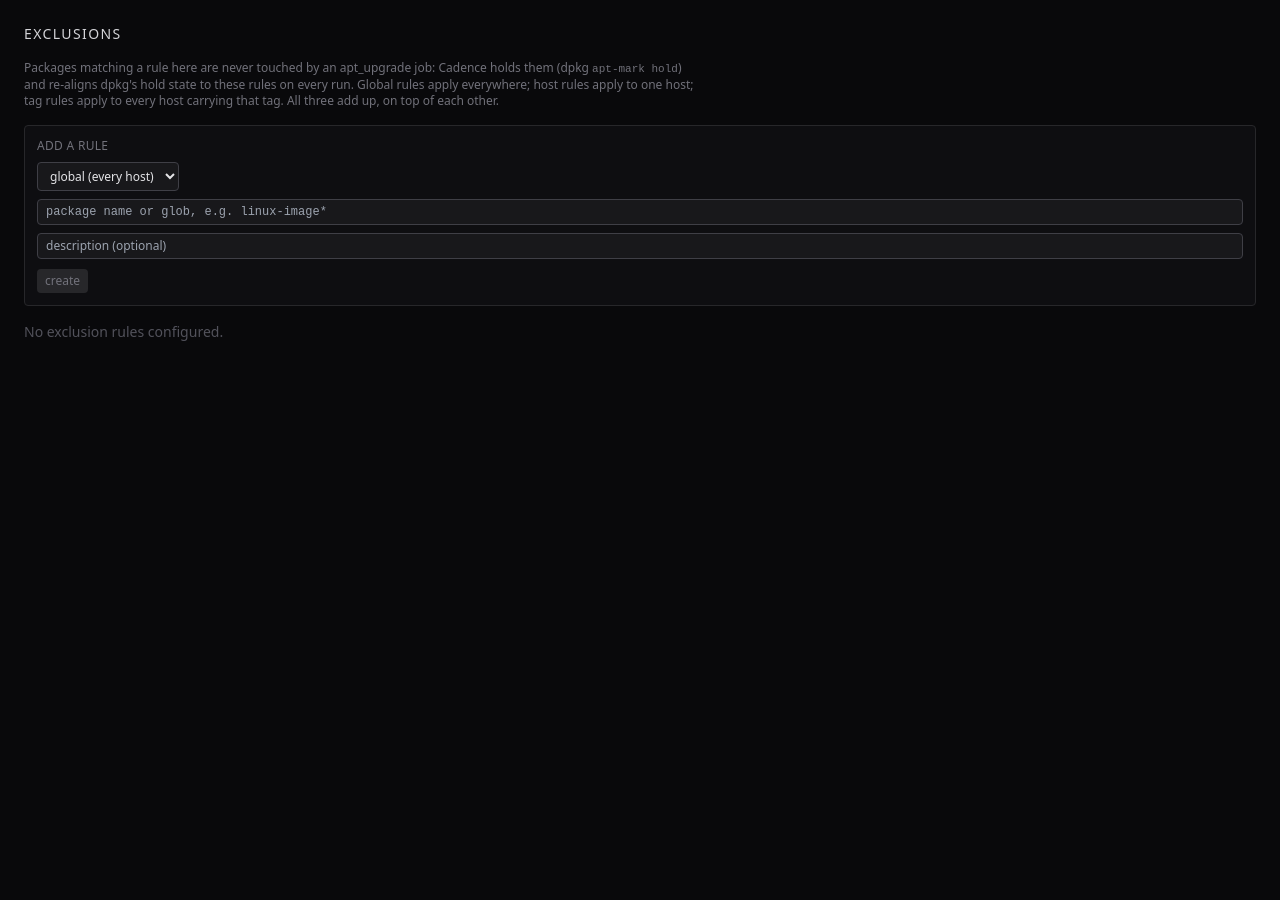
Test case: ExclusionsView › creates a tag-scoped rule
Expected: the text "No exclusion rules configured." is shown, [24, 322, 223, 341]
In the field with placeholder "package name or glob, e.g. linux-image*": (640, 212) [37, 199, 1243, 225], type "nginx*"
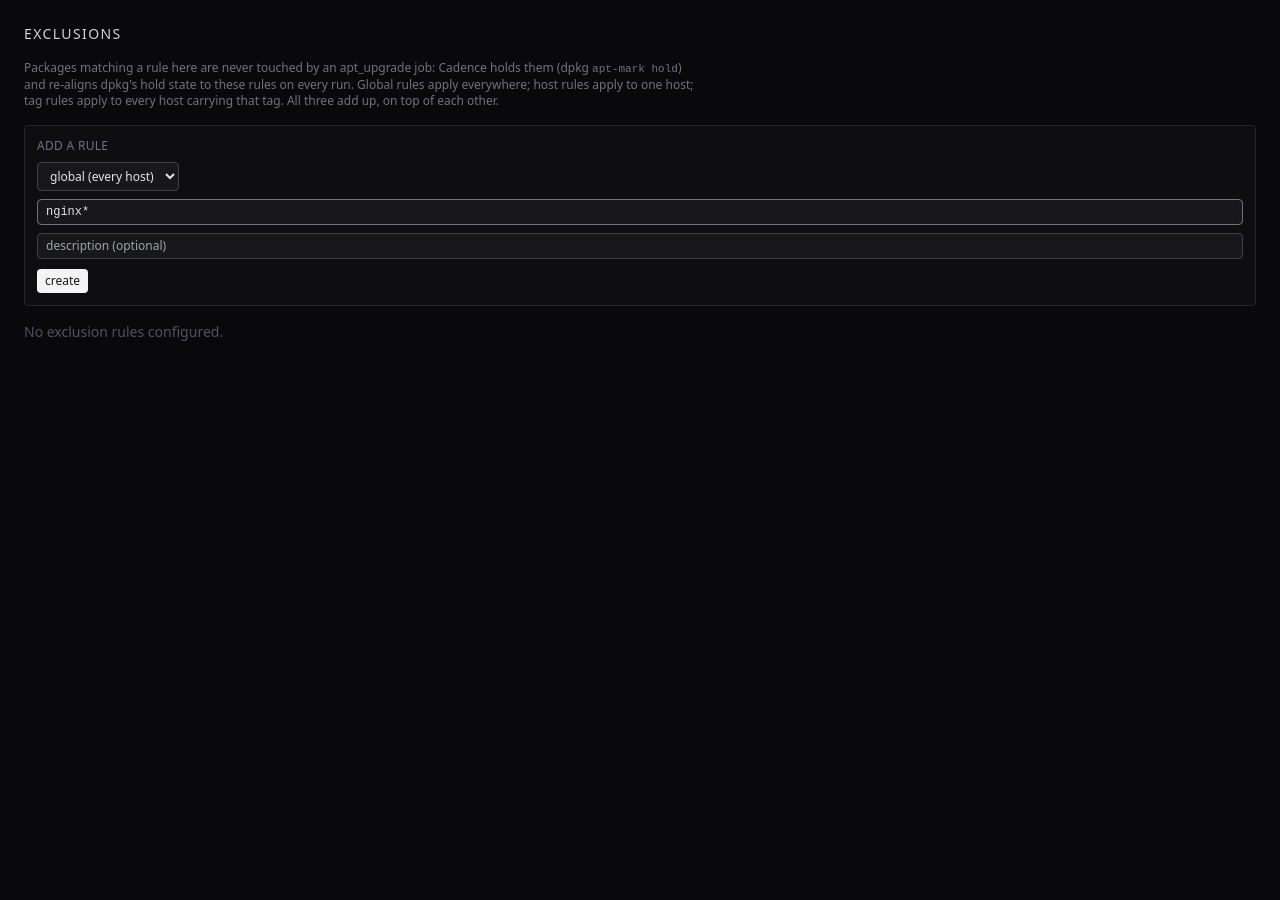
Select "hosts with a tag" in the dropdown named "Scope": (108, 176) [37, 162, 179, 191]
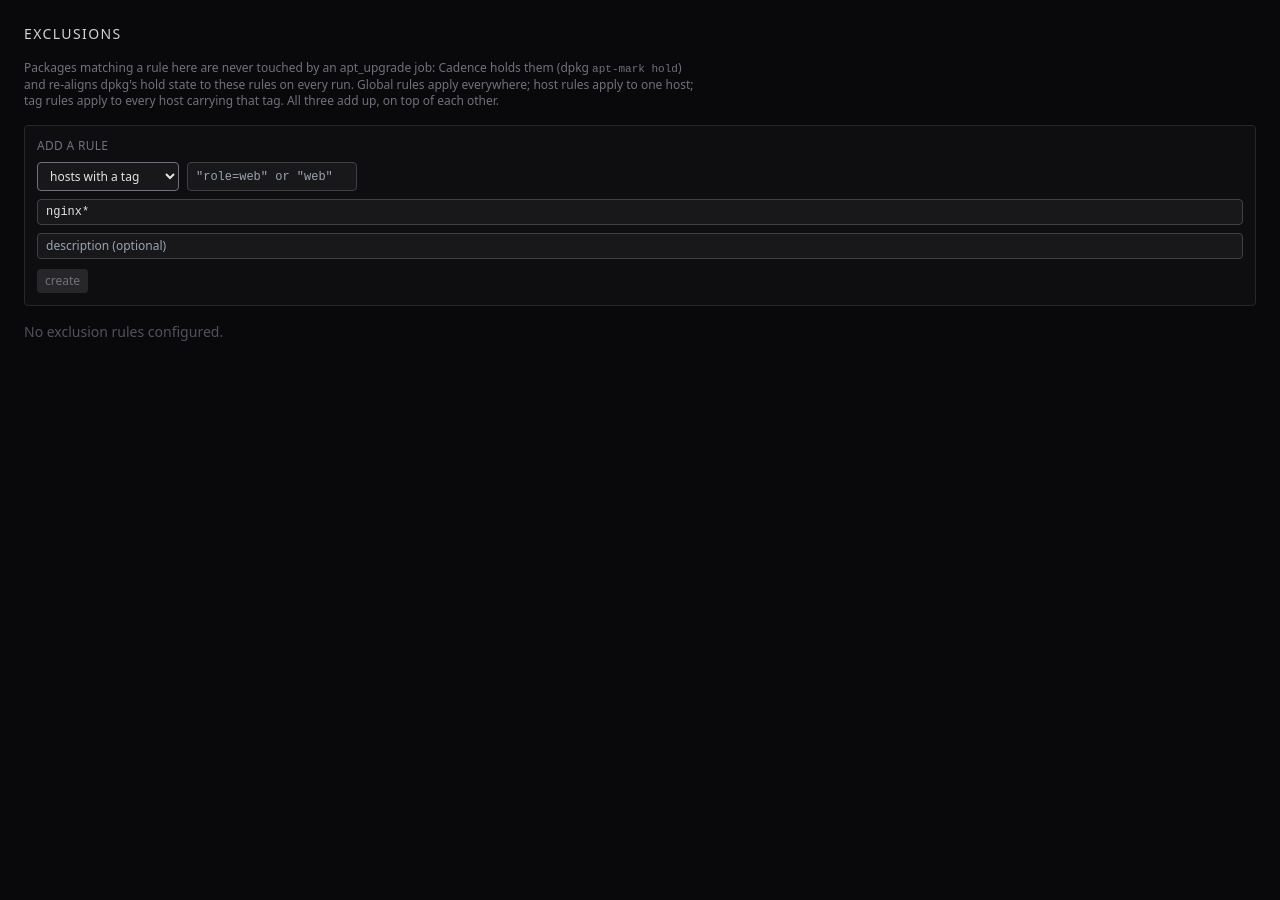
Now the button "create" is disabled, box [37, 269, 88, 293]
In the field named "Tag": (272, 176) [187, 162, 357, 191], type "role=web"
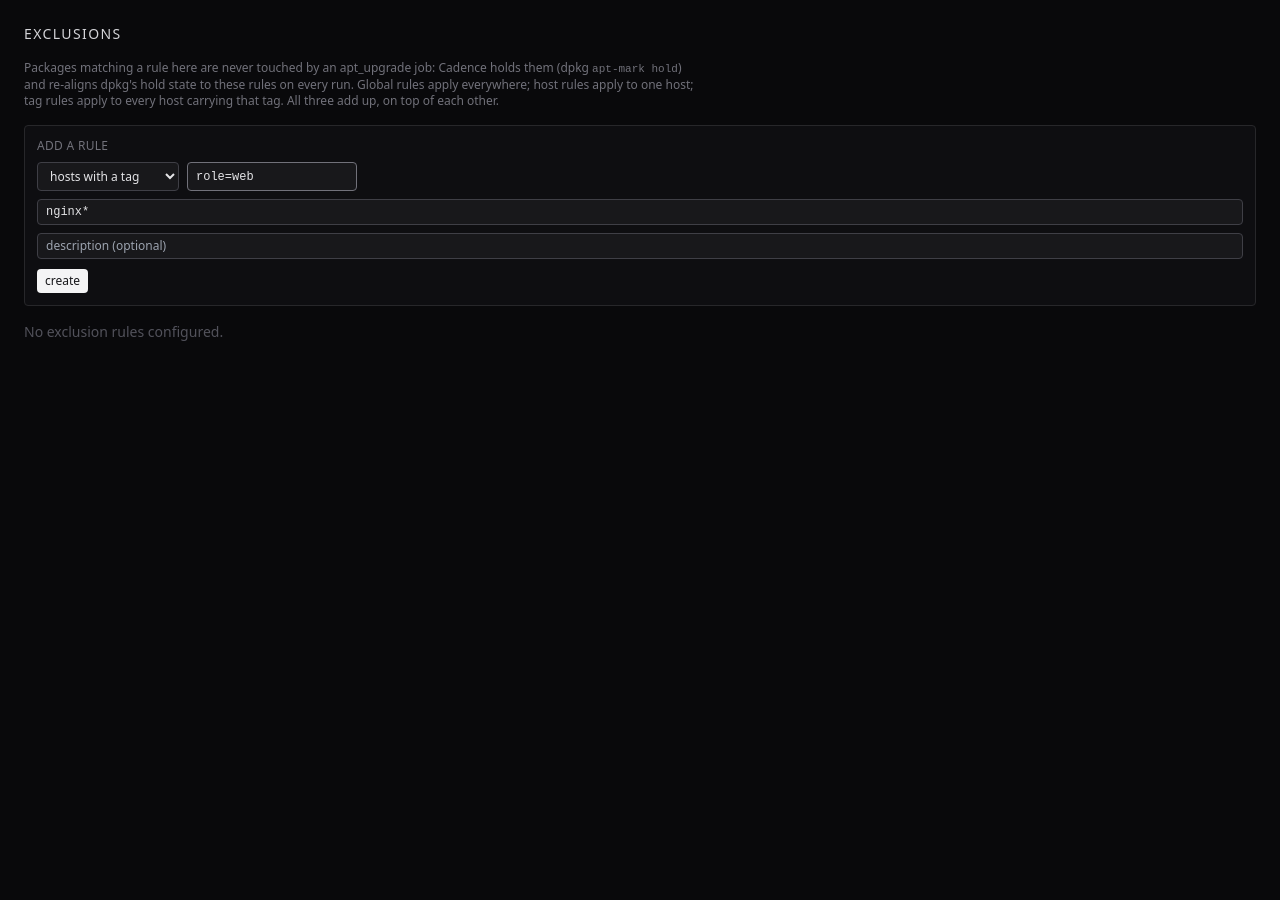
Now the button "create" is enabled
Click the button "create": (63, 281) [37, 269, 88, 293]
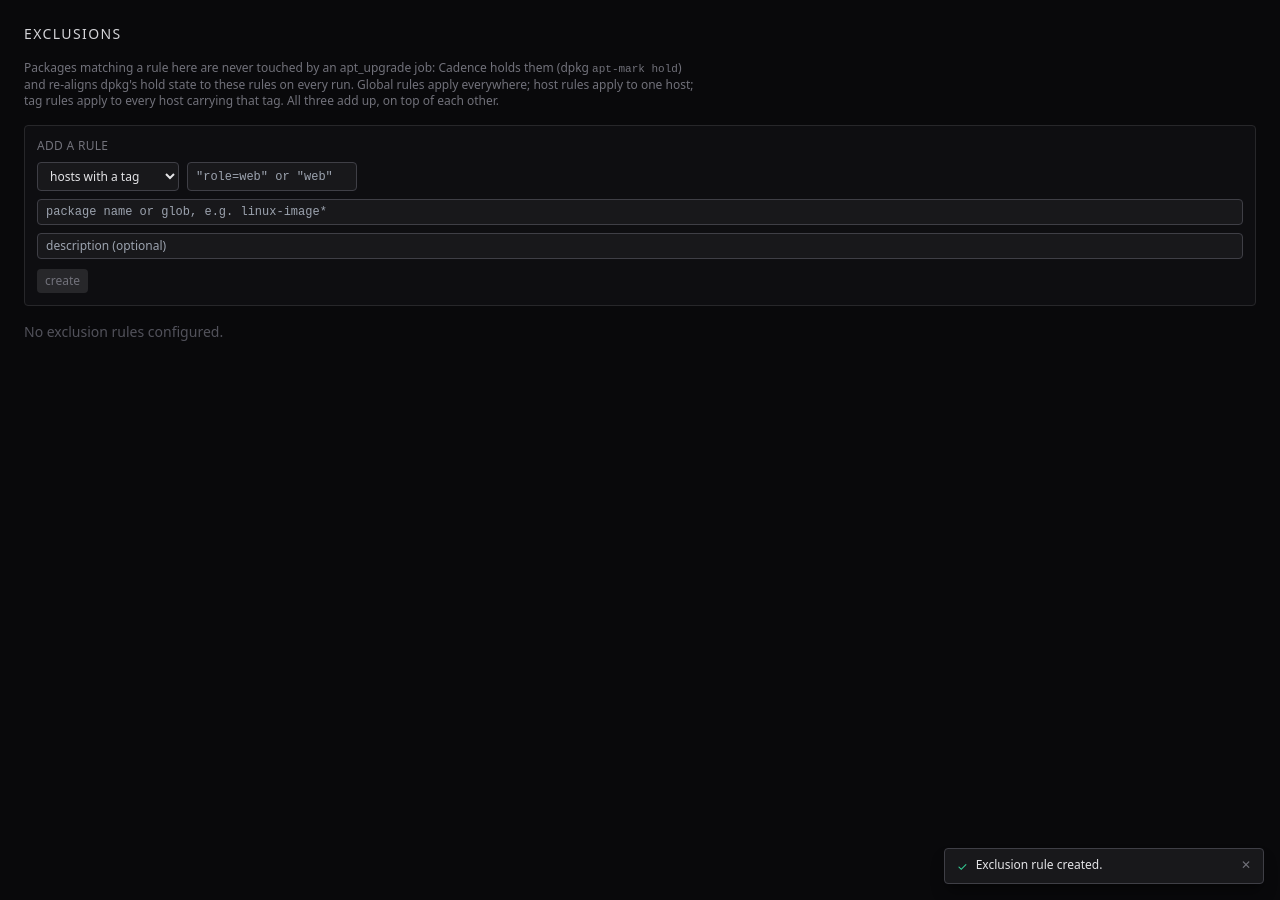
Now the text "Exclusion rule created." is shown, box [976, 856, 1102, 873]
